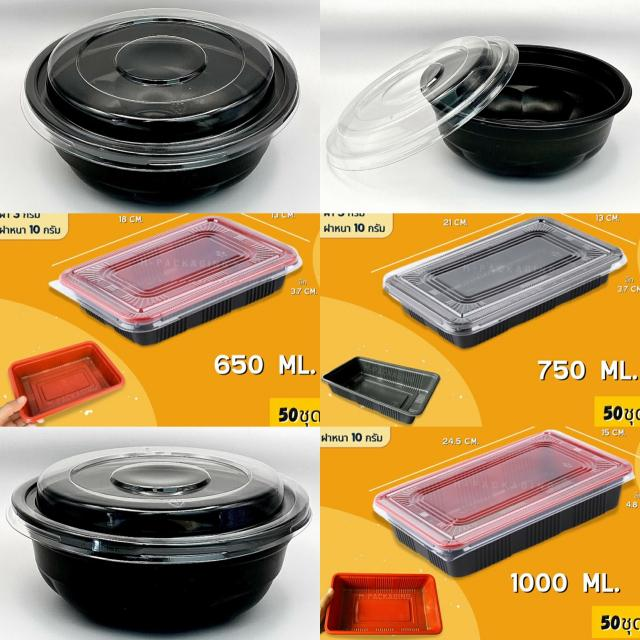Single-Use-Plastic: (8, 448, 311, 629), (21, 9, 299, 203), (373, 430, 634, 577), (51, 216, 301, 345), (383, 216, 627, 348), (327, 36, 519, 170), (444, 45, 632, 176), (9, 341, 125, 422), (322, 356, 440, 424), (325, 572, 443, 634)
